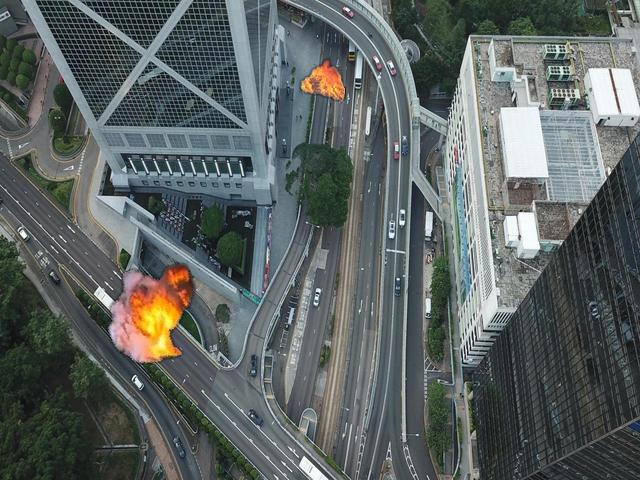fire: (105, 261, 196, 367), (301, 59, 344, 101)
